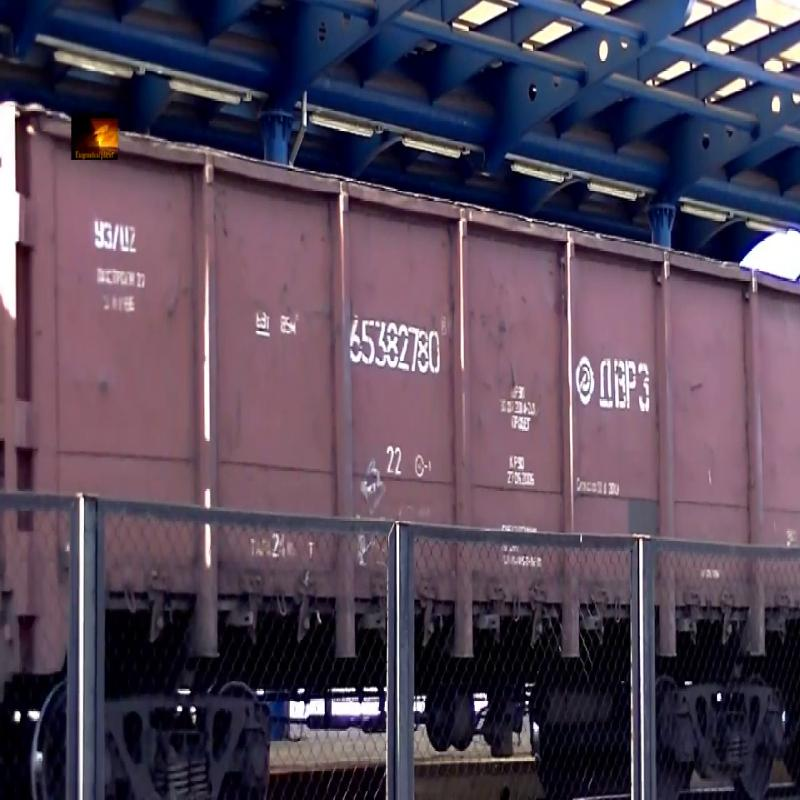train: (26, 47, 800, 775)
